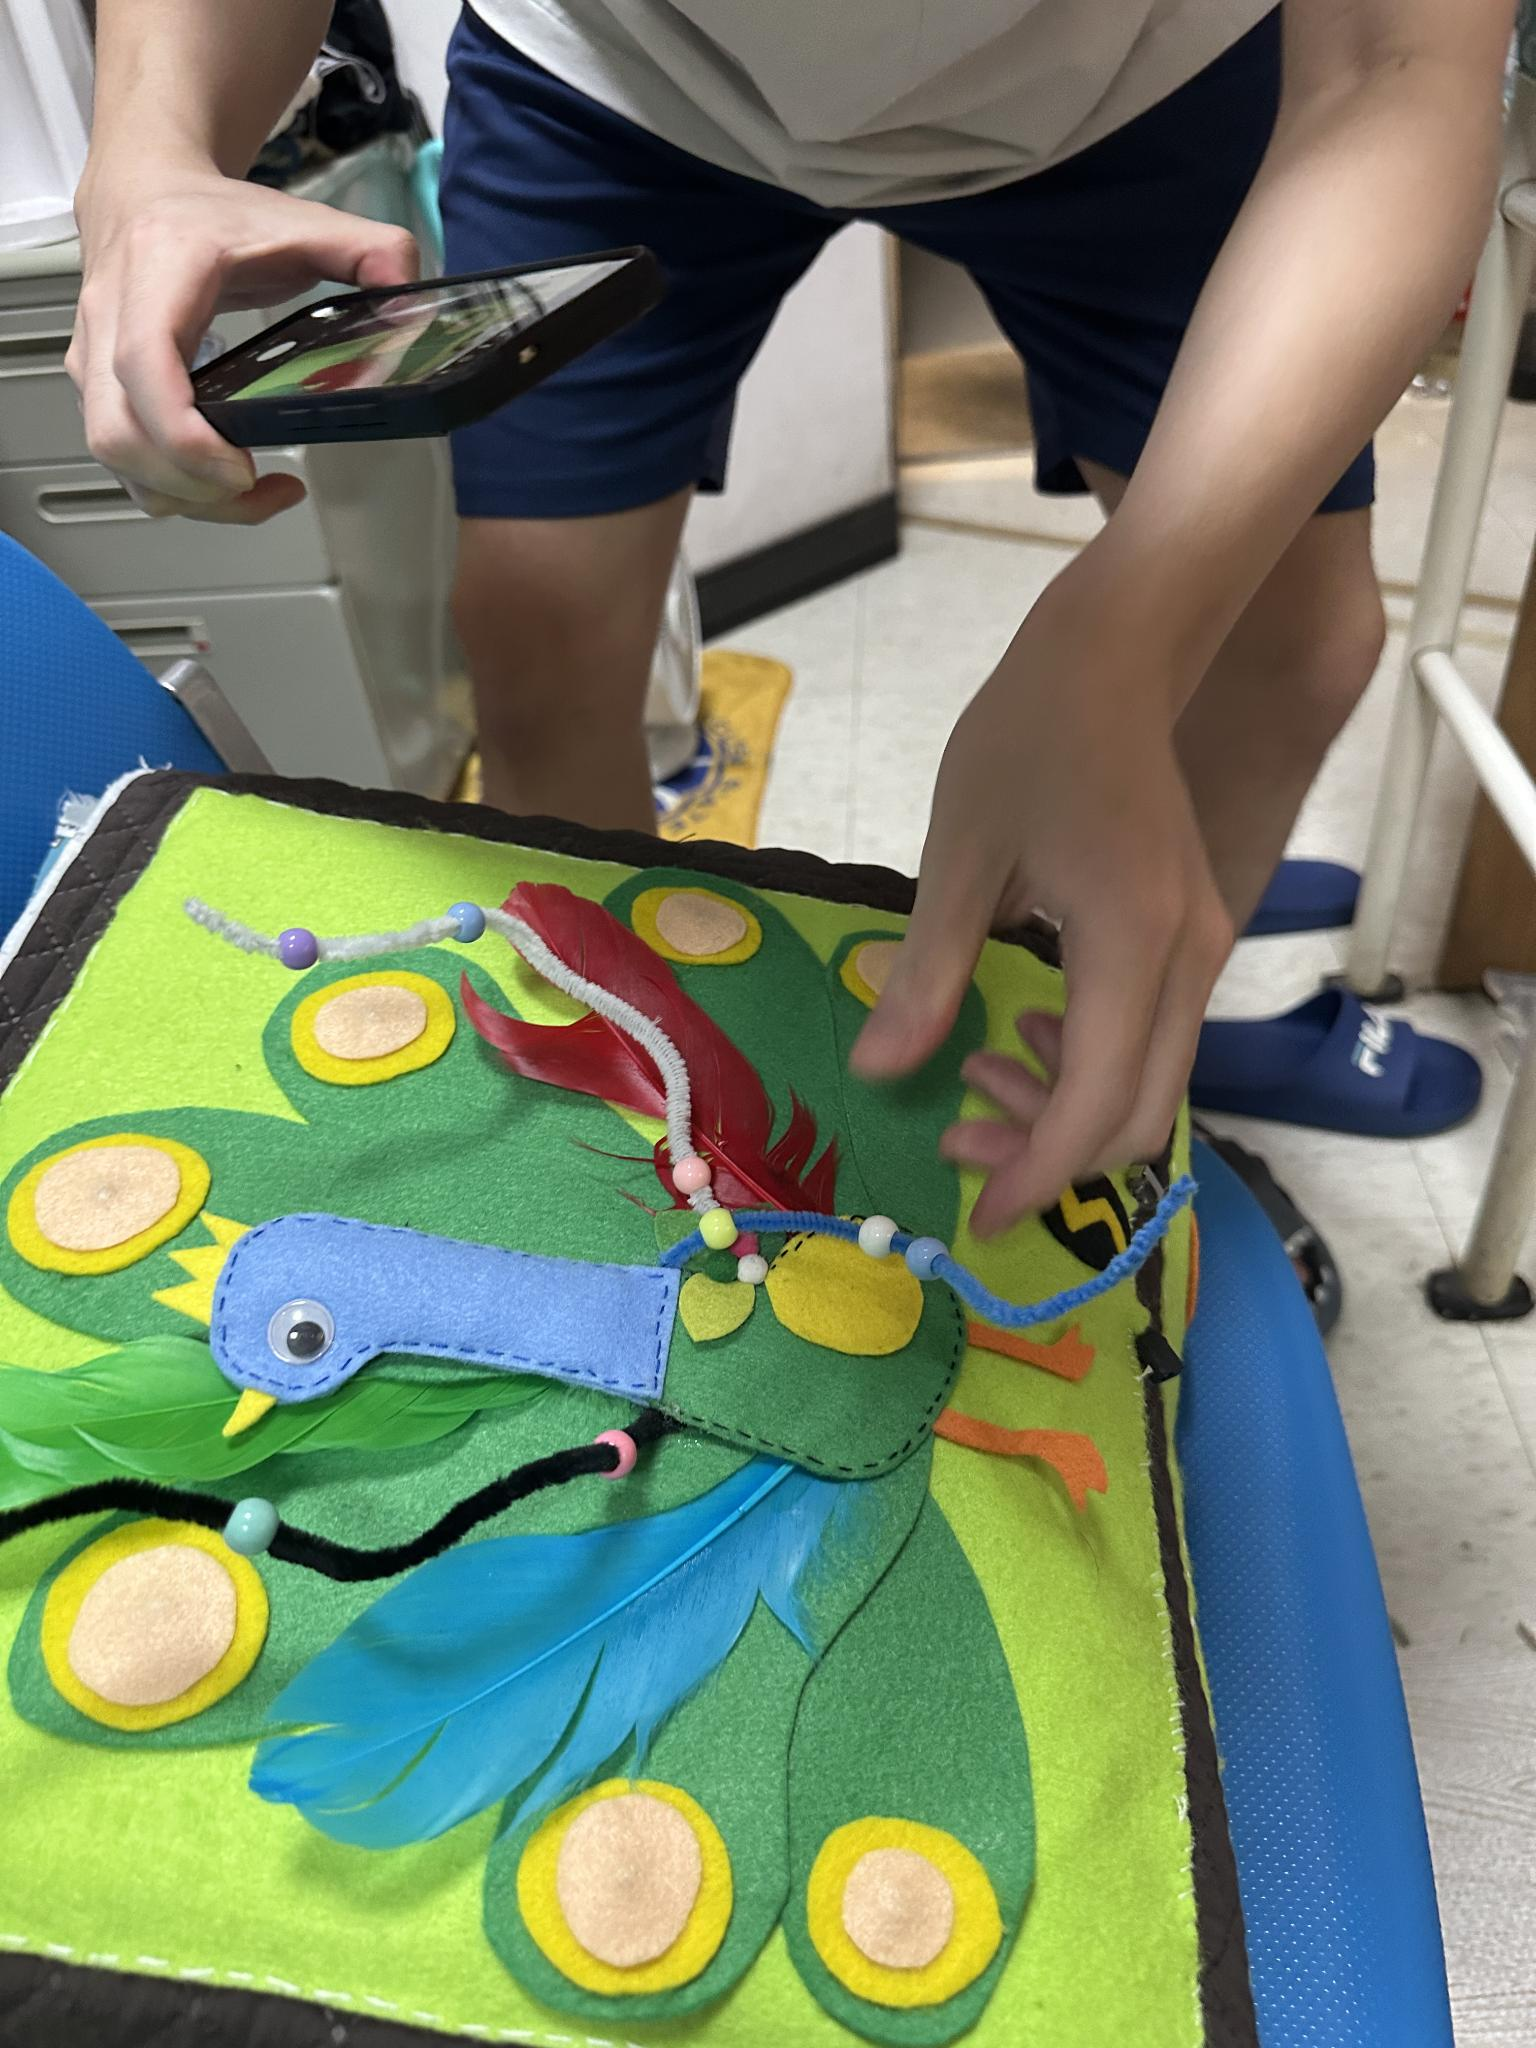bead: (579, 1421, 660, 1487), (224, 1495, 294, 1555), (907, 1224, 957, 1293), (274, 919, 324, 974), (854, 1205, 895, 1263), (663, 1150, 715, 1188), (452, 895, 489, 939), (691, 1213, 737, 1242)
